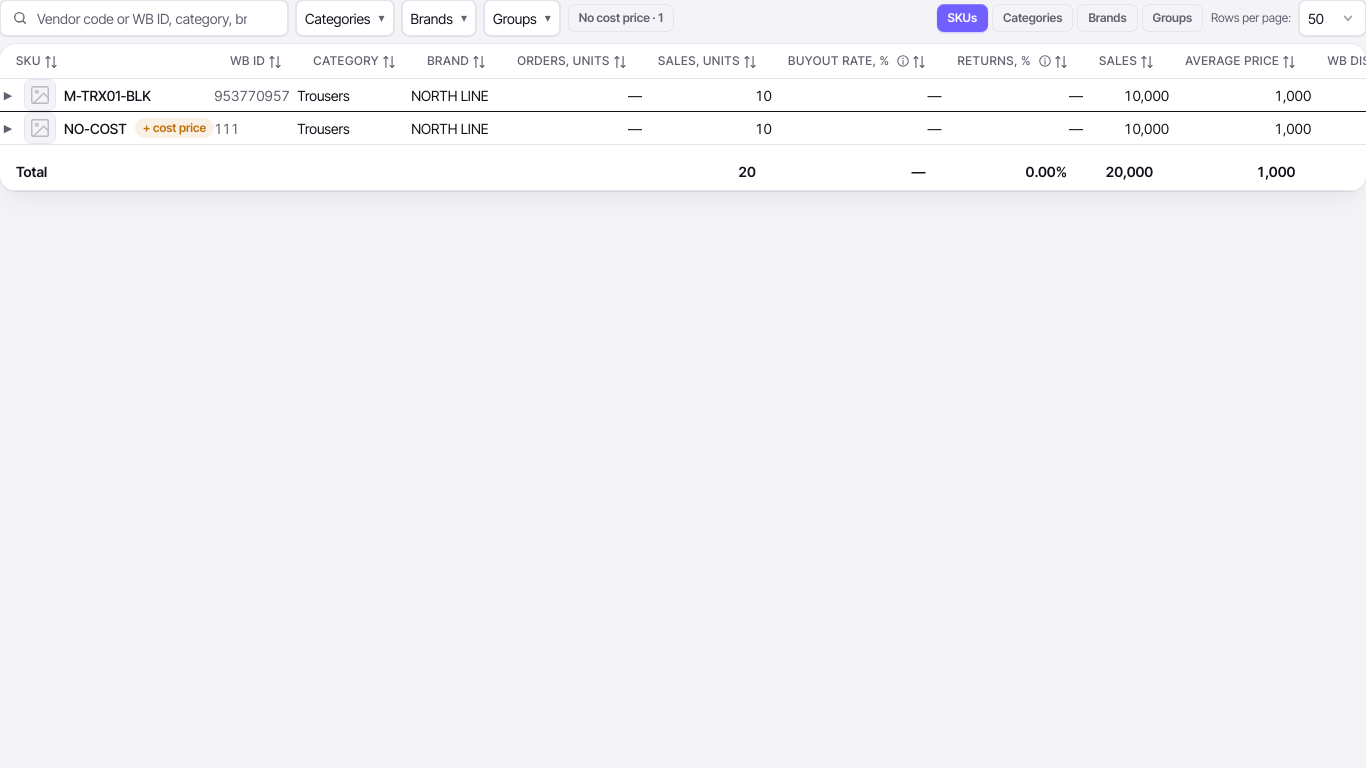
Test: articles with no cost price in the P&L › refuses a negative cost before asking the server
Click the button with test id "enter-cost" at point(174, 128), box [135,118,214,138]
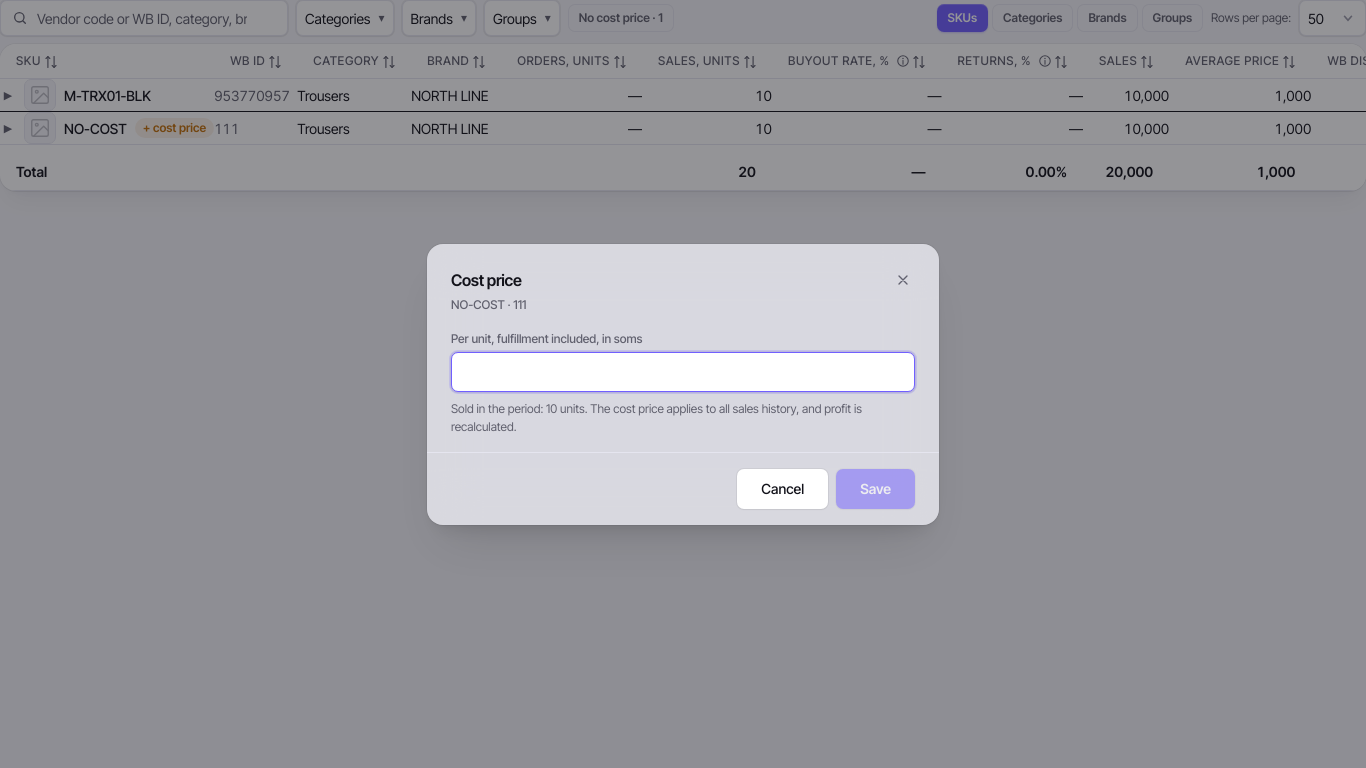
Type "-5" into the field labelled "Per unit, fulfillment included, in soms" at point(683, 372), box [451,352,915,392]
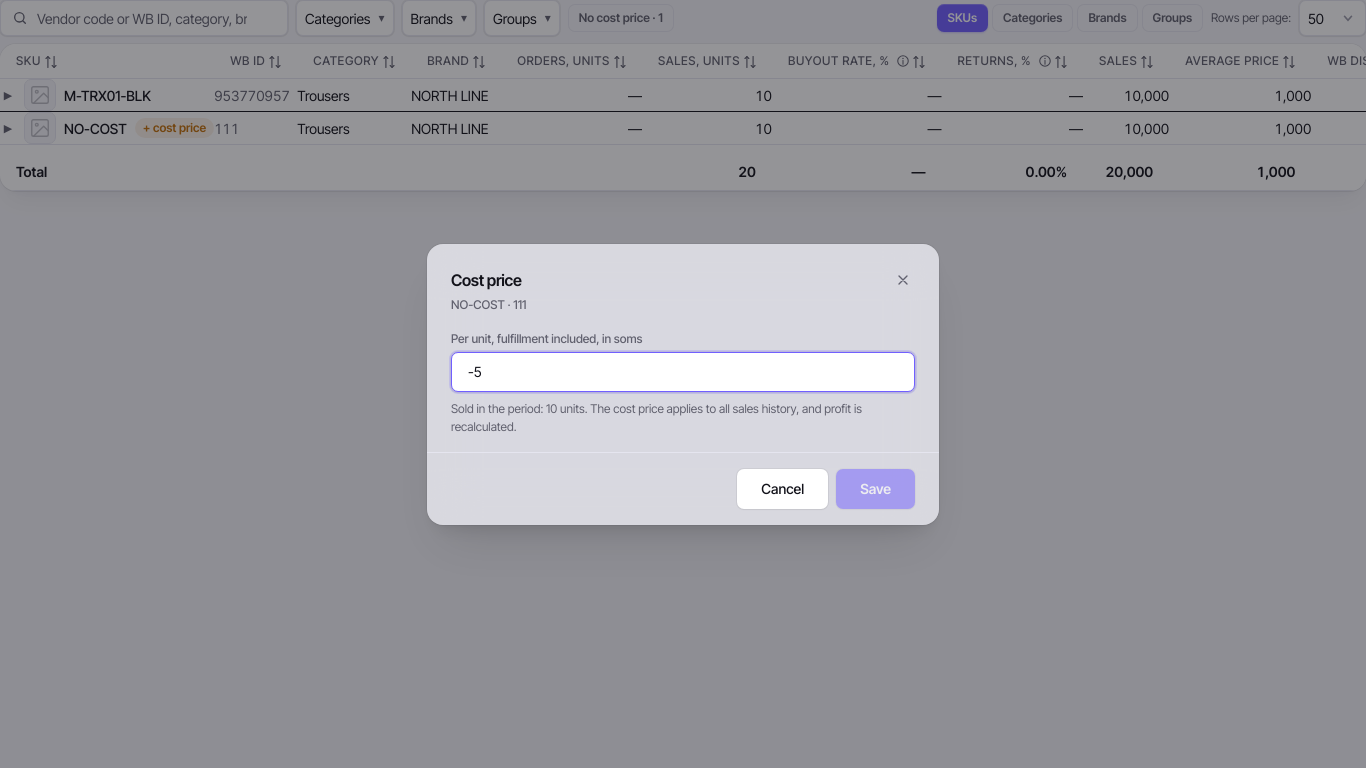
Submit the form, box [451,330,915,436]
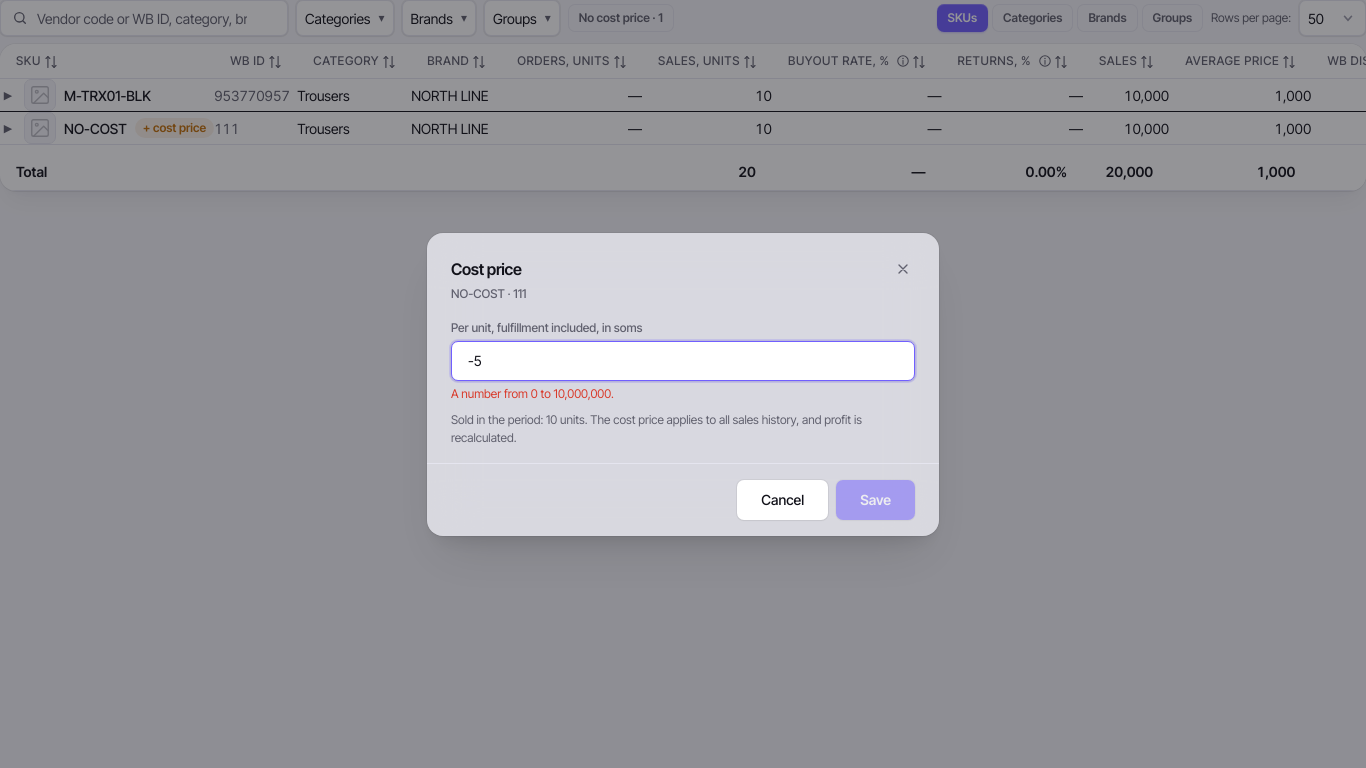
Expected: the dialog with test id "cost-dialog" shows "A number from 0", [451,386,614,400]
